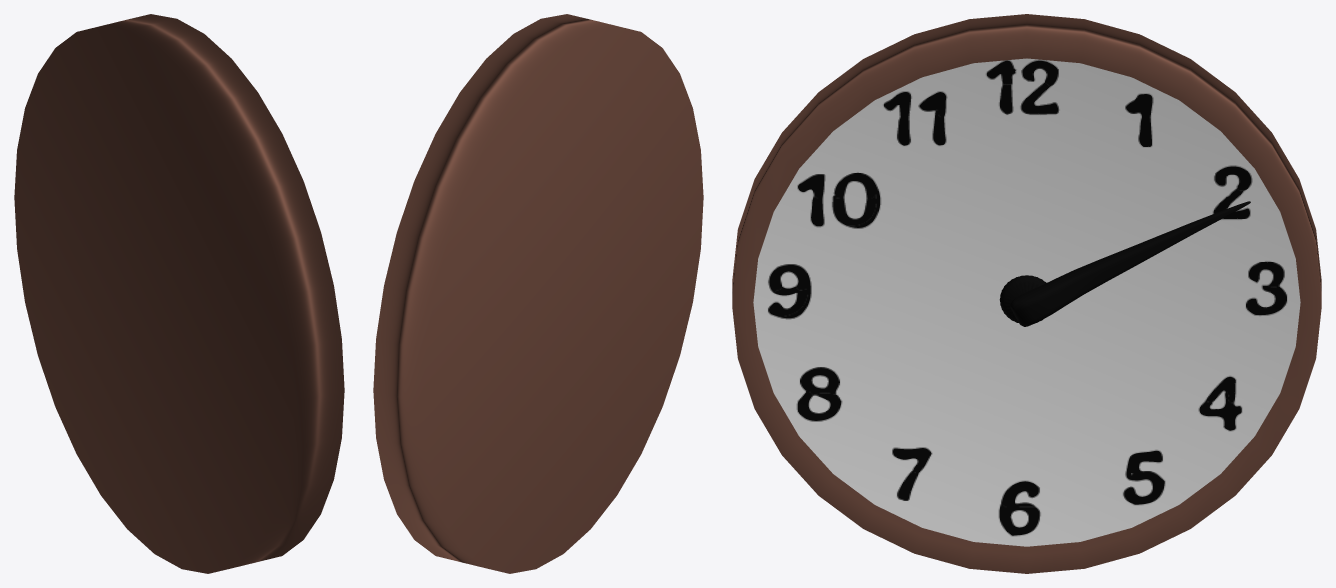
The model's file is Clock.fbx.
3 views of the same model, side by side, from view 1: azimuth 30°, elevation 25°; view 2: azimuth 150°, elevation 25°; view 3: azimuth 270°, elevation 25° (orthographic). The views are drawn at different scales.
Parts seen in each view (by area): view 1: Cylinder; view 2: Cylinder; view 3: Cylinder, Cube, Cylinder.001.
Part boxes in pixels (box(x1,y1,x2,y2)): Cylinder: box(14, 14, 344, 573); Cylinder: box(373, 14, 703, 573); Cylinder: box(732, 14, 1321, 573); Cube: box(1010, 201, 1250, 326); Cylinder.001: box(999, 275, 1046, 322).
Bounding box in the file's own units: 43.76 × 318 × 318.
